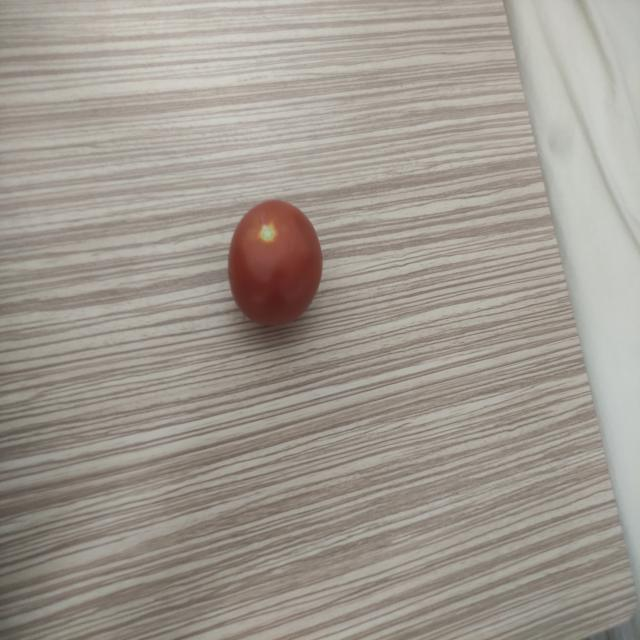kirmizi: (215, 192, 352, 339)
